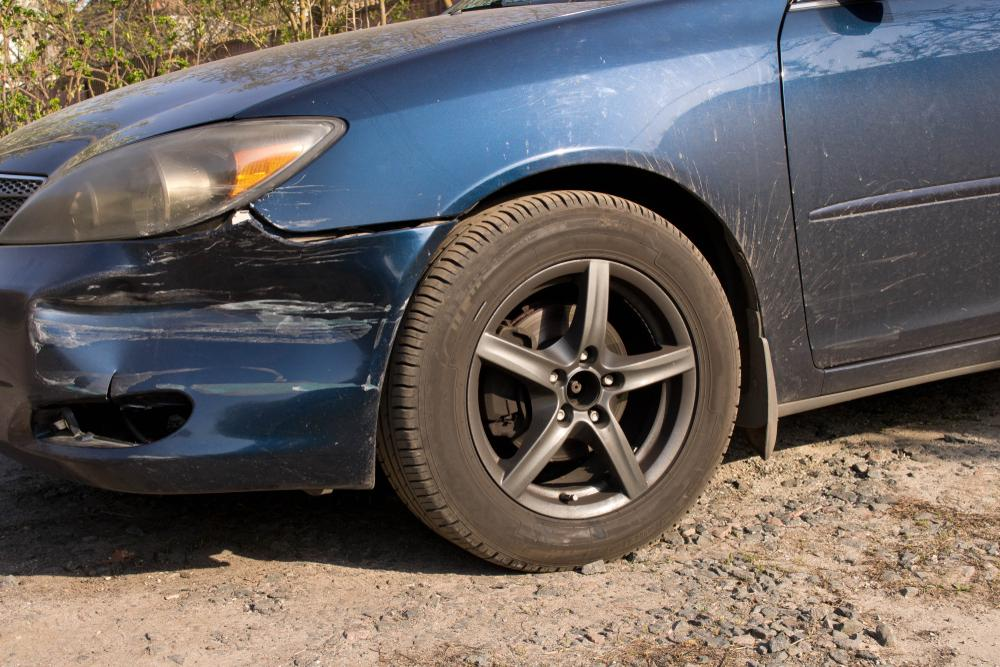crack: (104, 370, 118, 399)
dent: (33, 223, 398, 399)
scratch: (249, 170, 350, 232)
